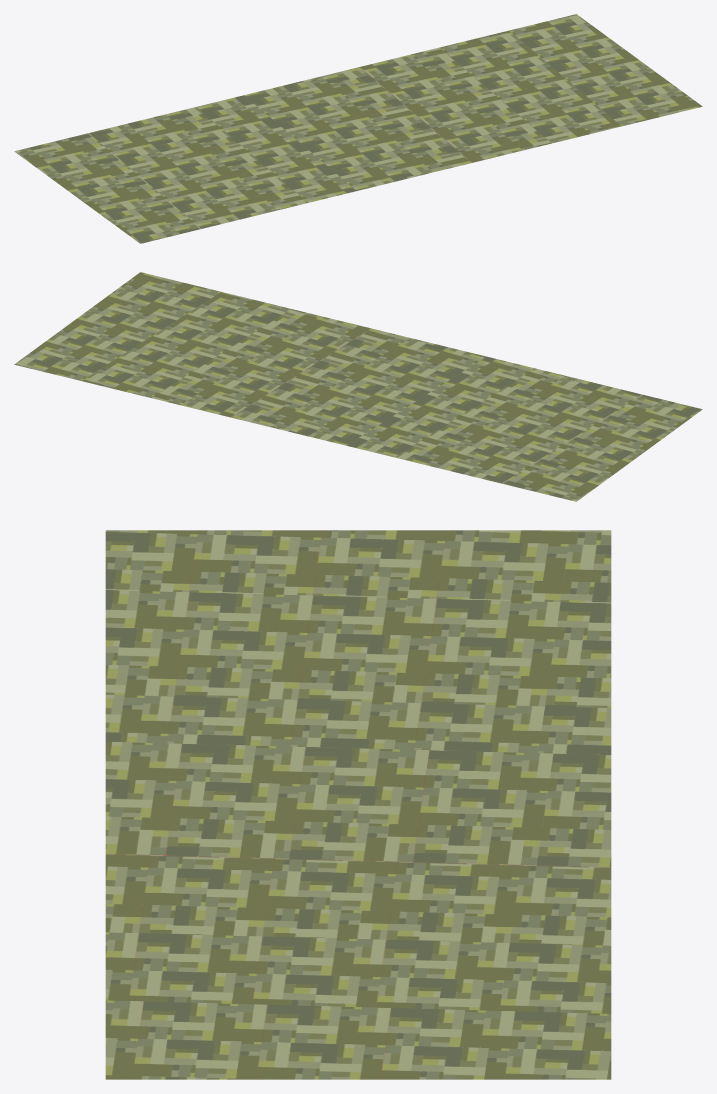
Rendered from ground_4.obj.
3 renders of one model, top to bottom at view 1: azimuth 30°, elevation 25°; view 2: azimuth 150°, elevation 25°; view 3: azimuth 270°, elevation 25°, orthographic. The views are drawn at different scales.
Visible parts, largest first — view 1: Ground; view 2: Ground; view 3: Ground.
Boxes of the visible parts, x1,y1,x2,y2 form: Ground: [14, 14, 702, 243]; Ground: [14, 272, 702, 501]; Ground: [105, 530, 611, 1079].
Size of the model in its own units: 465 by 0 by 181.
1 material, 1 textured.
